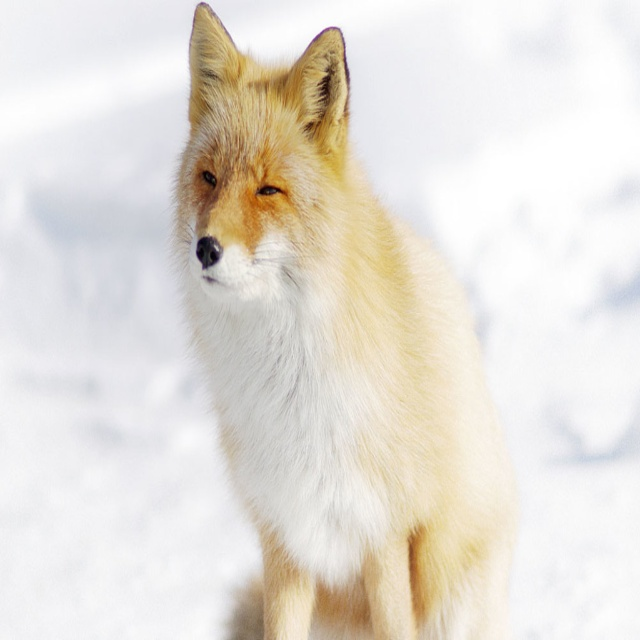Fox: (157, 0, 521, 639)
